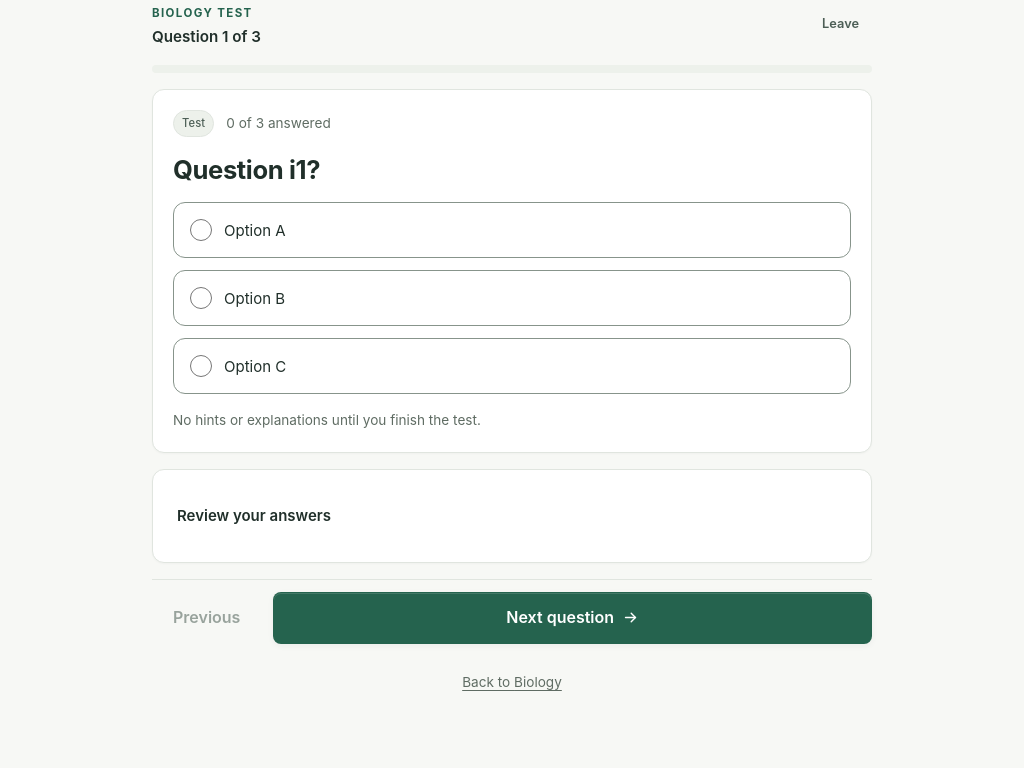
Test case: test session › never drops an answer when saving fails: it stays on screen and is sent again
The image size is (1024, 768).
Click the radio button labelled "Option B": [201, 298] box [190,287,212,309]
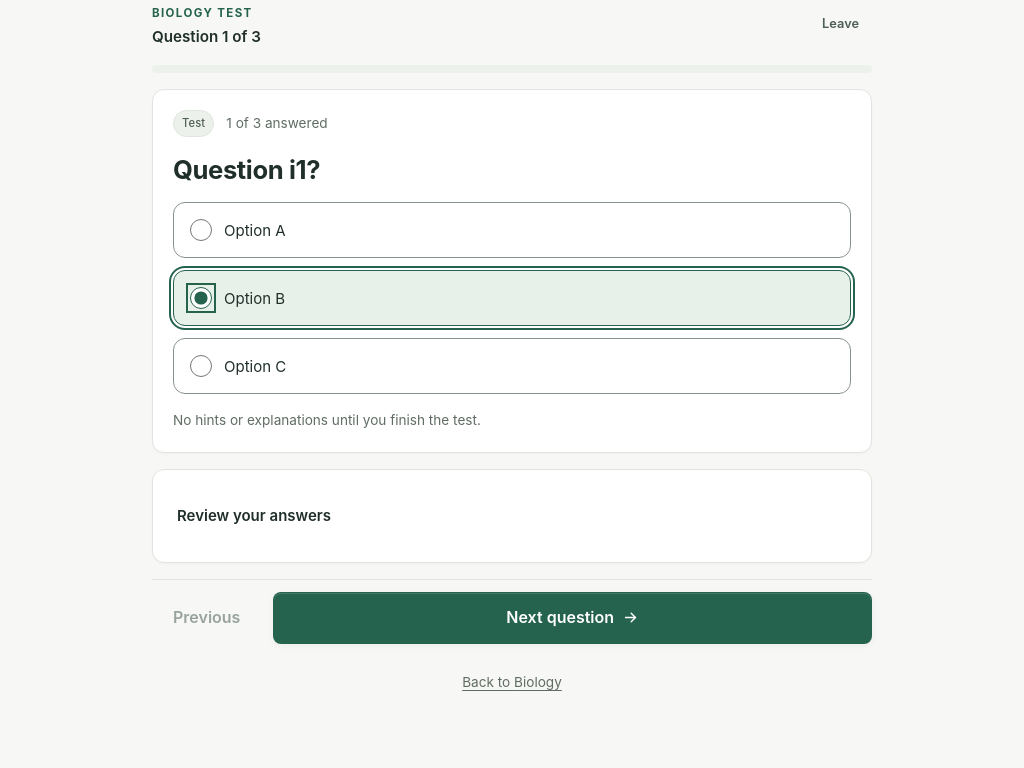
Click the button "Next question": [573, 618] box [273,592,872,644]
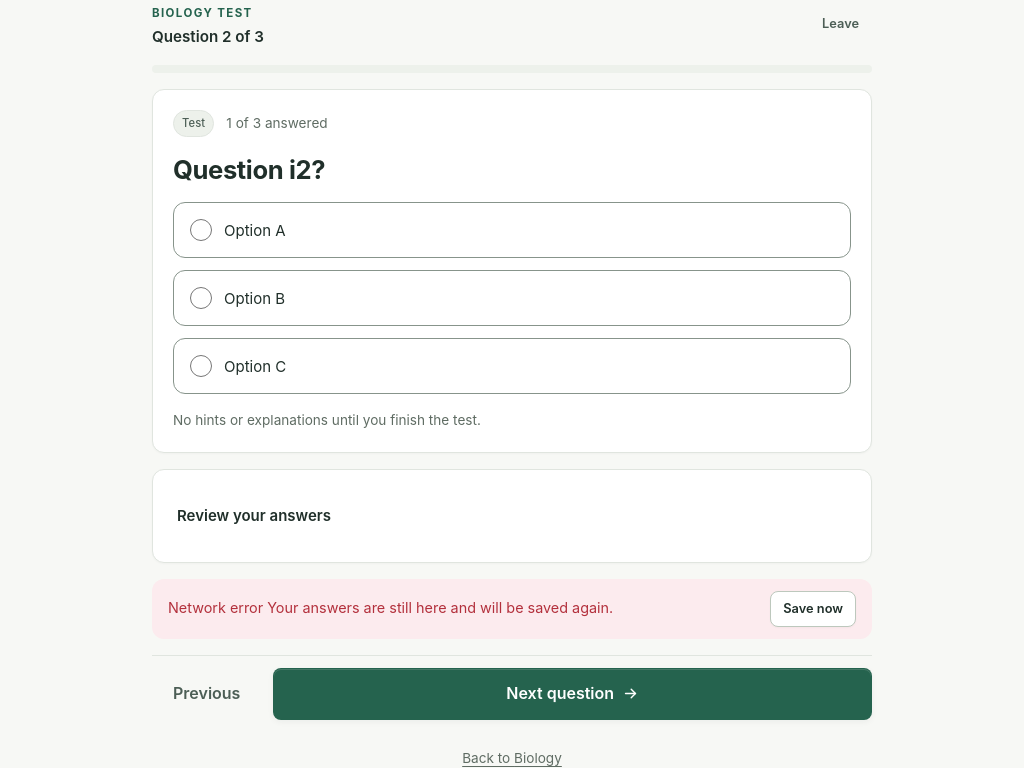
expect the message shows "Network error": met, box [168,599,613,616]
expect the message shows "Your answers are still here and will be saved again.": met, box [168,599,613,616]
# Going back is enough: the unsaved answer travels with the next save.
Click the button "Previous": [207, 694] box [152,668,261,720]
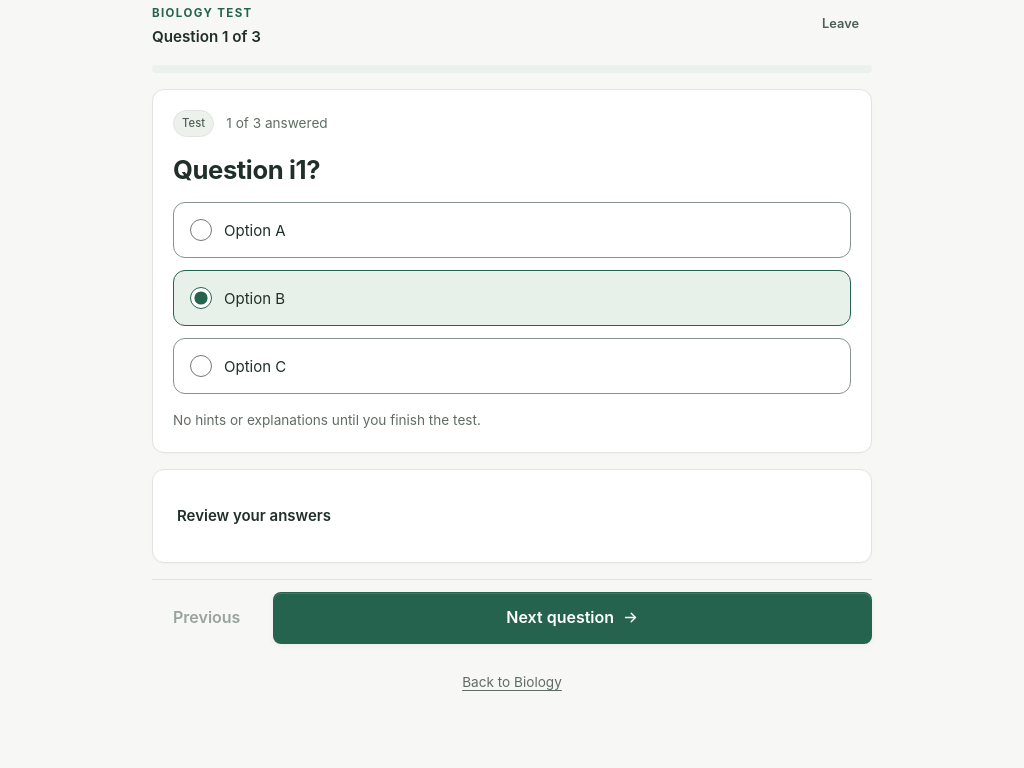
expect the radio button labelled "Option B" is checked: met, box [190,287,212,309]
expect the message "Network error Your answers are still here and will be saved again. Save now" is gone: met
